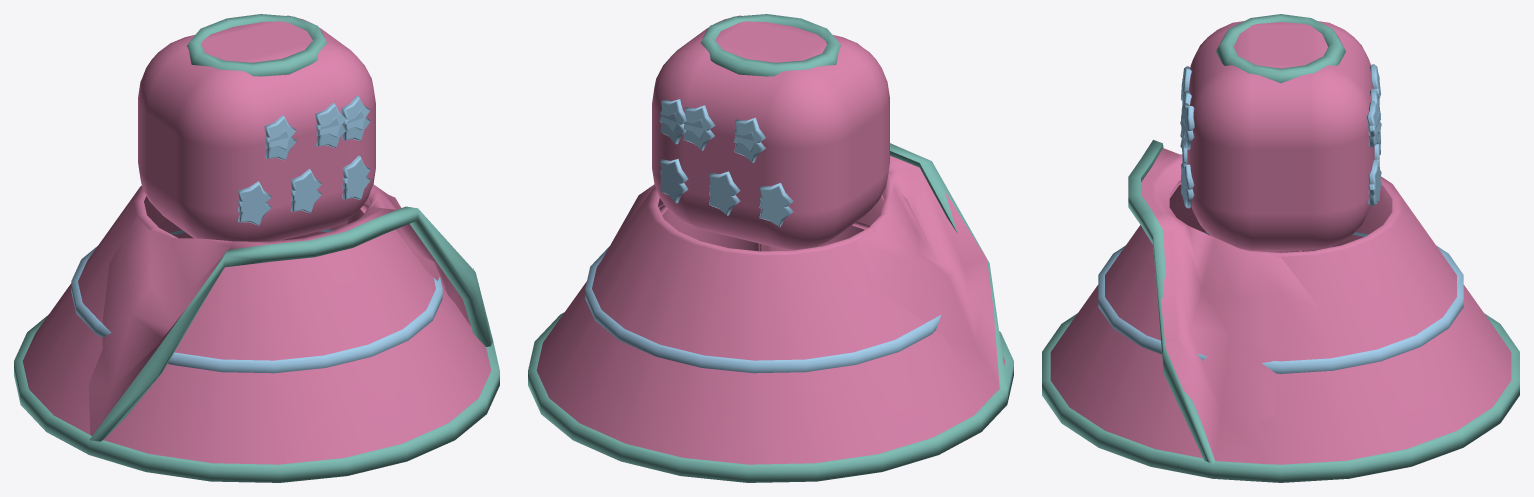
The model's file is bold_muumuu.glb.
3 views of the same model, side by side, from view 1: azimuth 30°, elevation 25°; view 2: azimuth 150°, elevation 25°; view 3: azimuth 270°, elevation 25° (orthographic).
Parts seen in each view (by area): view 1: bold_muumuu_Body, bold_muumuu_Body_sit; view 2: bold_muumuu_Body, bold_muumuu_Body_sit, bold_muumuu_LegR_sit, bold_muumuu_LegL_sit; view 3: bold_muumuu_Body, bold_muumuu_Body_sit.
Boxes of the visible parts, <box> form: bold_muumuu_Body: <box>14,14,499,482</box>; bold_muumuu_Body_sit: <box>88,37,493,441</box>; bold_muumuu_Body: <box>528,14,1013,482</box>; bold_muumuu_Body_sit: <box>603,37,1007,391</box>; bold_muumuu_LegR_sit: <box>658,204,762,251</box>; bold_muumuu_LegL_sit: <box>758,221,870,251</box>; bold_muumuu_Body: <box>1042,14,1519,482</box>; bold_muumuu_Body_sit: <box>1128,64,1392,464</box>.
Size of the model in its own units: 0.748 by 0.6289 by 0.7404.
